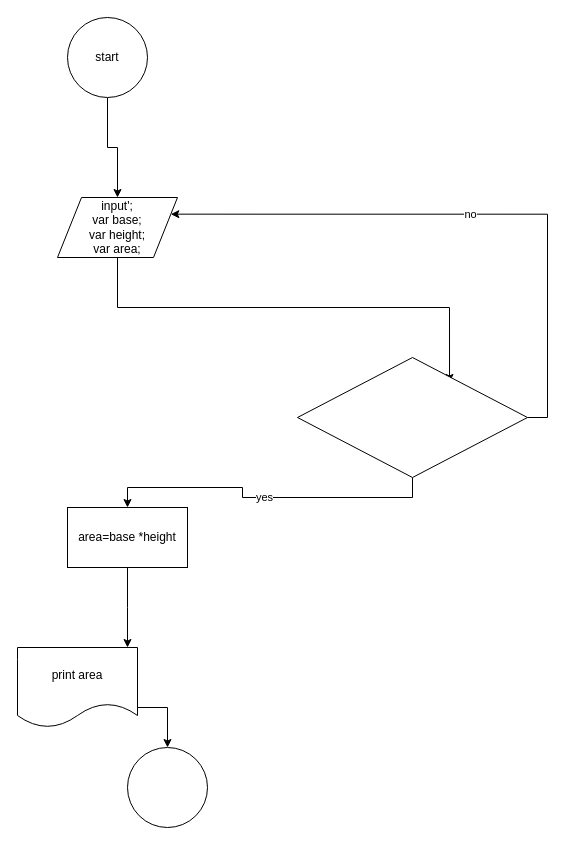
Some shapes in this 573 by 845 pixel diagram are drawn without their labels. The centre of each missing label's shape, as x and y in pixels:
end: pixel 167 787
if base and height are positive number: pixel 412 417
